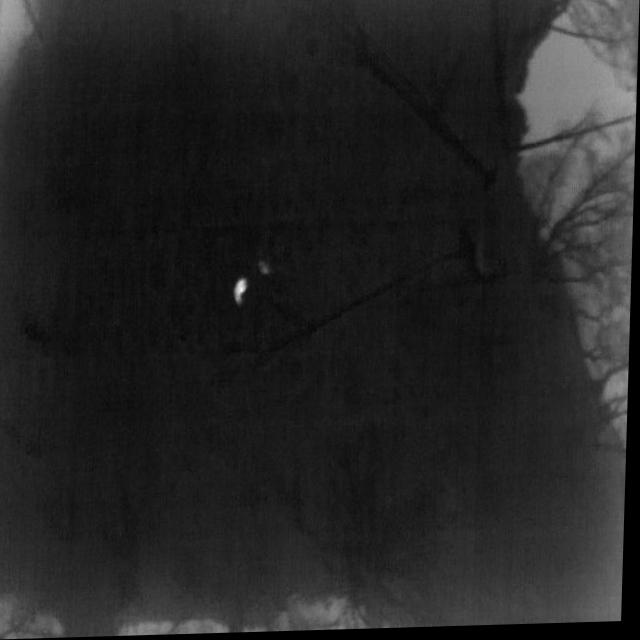deer: (235, 279, 250, 308), (259, 262, 273, 277)
